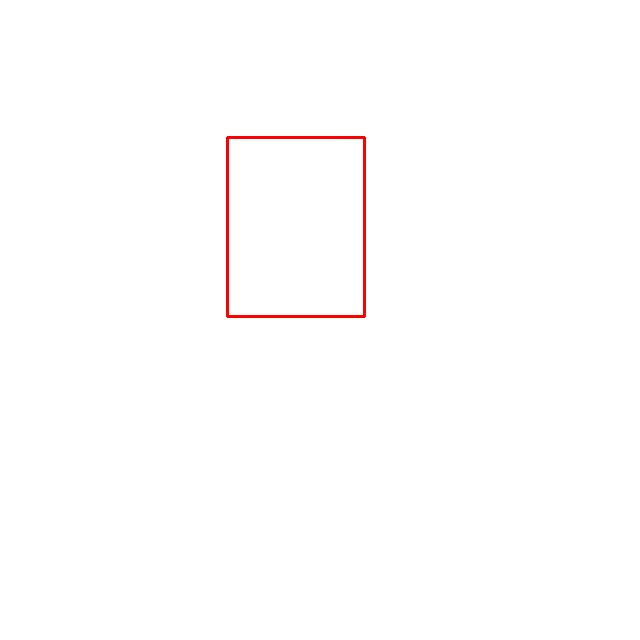weapon: (227, 137, 365, 316)
